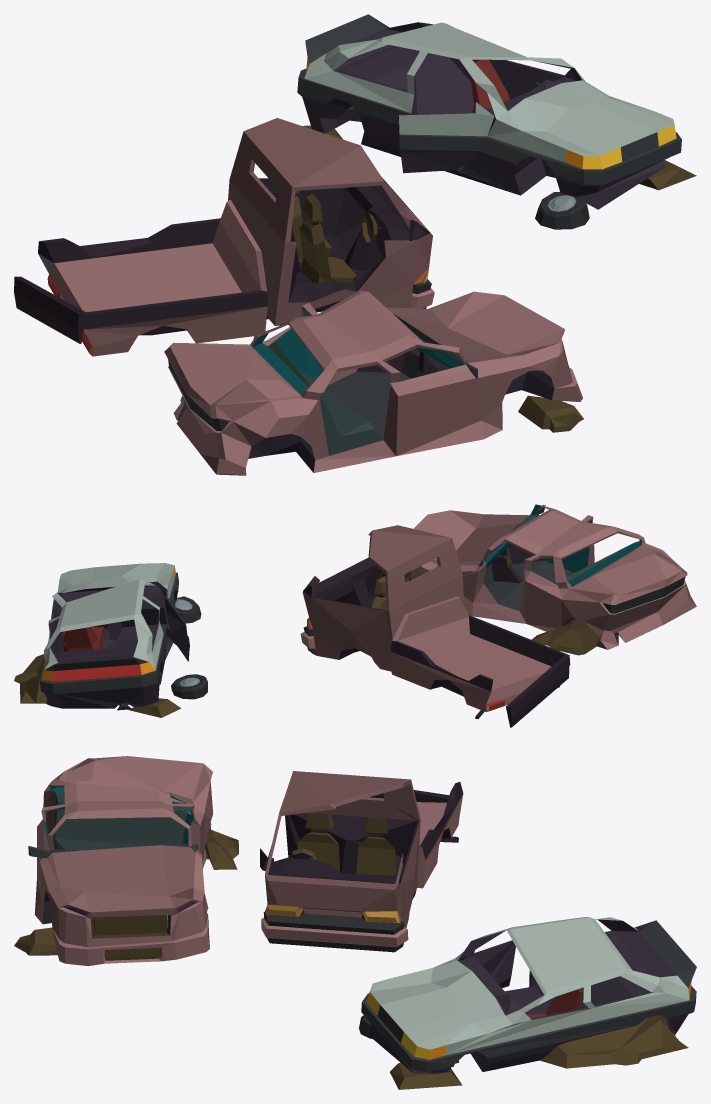
The model's file is autos_destruidos.fbx.
3 views of the same model, one above another, from view 1: azimuth 30°, elevation 25°; view 2: azimuth 150°, elevation 25°; view 3: azimuth 270°, elevation 25° (orthographic). The views are drawn at different scales.
Visible parts, largest first — view 1: car 1,/.RC, car 3./2.RC, car 2./2; view 2: car 3./2.RC, car 1,/.RC, car 2./2; view 3: car 2./2, car 1,/.RC, car 3./2.RC.
Boxes of the visible parts, x1,y1,x2,y2 form: car 1,/.RC: (164, 291, 583, 475); car 3./2.RC: (14, 118, 434, 356); car 2./2: (297, 14, 696, 229); car 3./2.RC: (300, 525, 570, 727); car 1,/.RC: (404, 504, 696, 655); car 2./2: (14, 563, 207, 717); car 2./2: (359, 917, 696, 1089); car 1,/.RC: (14, 756, 238, 966); car 3./2.RC: (260, 771, 463, 952).
Bounding box in the file's own units: 810 × 185 × 837.
1 material, 1 textured.
